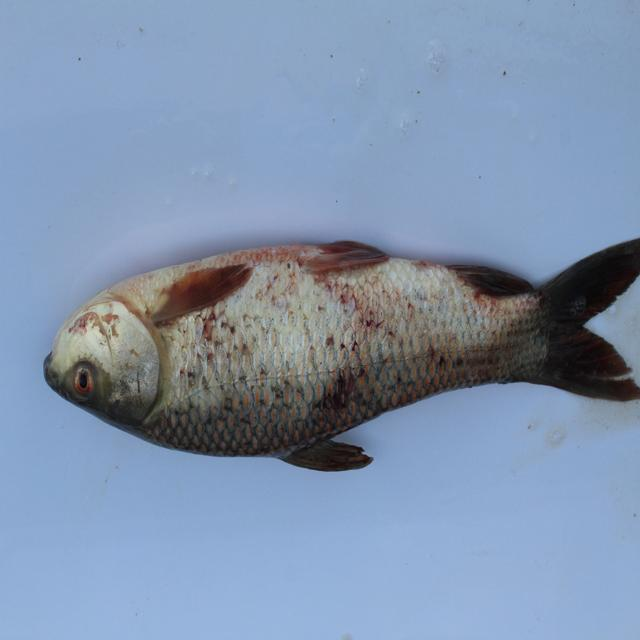Rohu: (35, 210, 635, 469)
